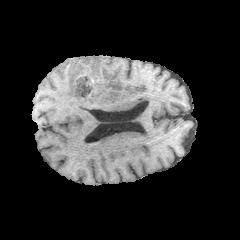glioma: (61, 57, 131, 107)
